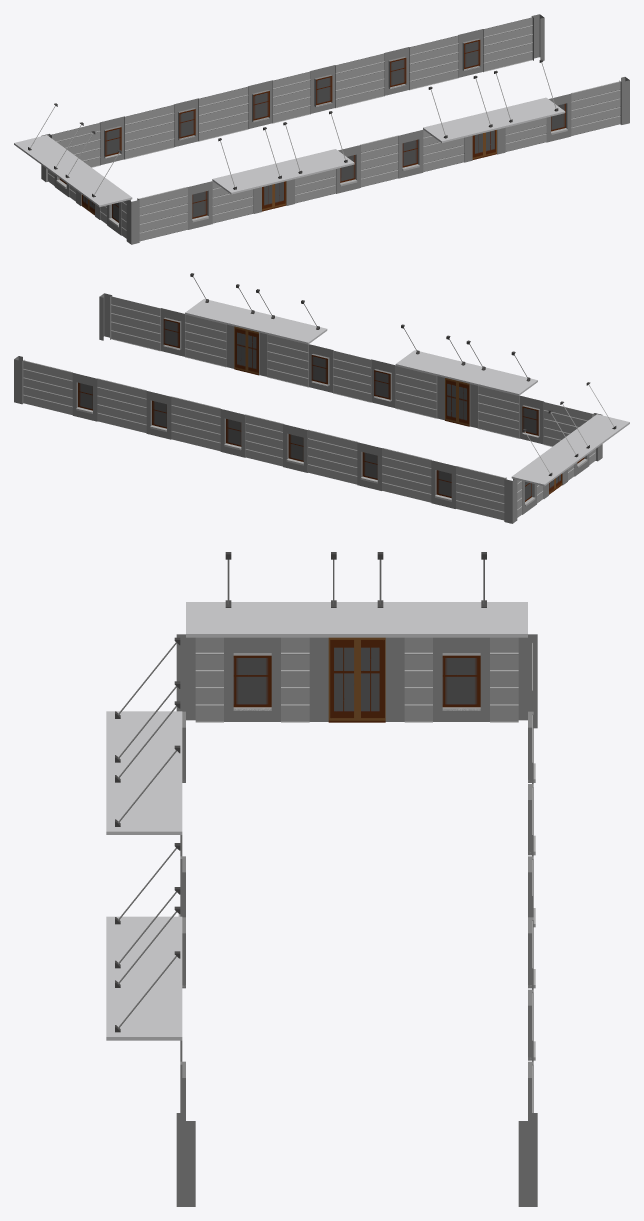
Rendered from BuildingSmall4_1.fbx.
3 renders of one model, top to bottom at view 1: azimuth 30°, elevation 25°; view 2: azimuth 150°, elevation 25°; view 3: azimuth 270°, elevation 25°, orthographic. The views are drawn at different scales.
Parts seen in each view (by area): view 1: BuildingSmall4_1; view 2: BuildingSmall4_1; view 3: BuildingSmall4_1.
Part boxes in pixels (x1,y1,x2,y2): BuildingSmall4_1: (14,14,629,244); BuildingSmall4_1: (14,273,629,523); BuildingSmall4_1: (106,552,537,1206).
Bounding box in the file's own units: 6420 × 978 × 2270.
